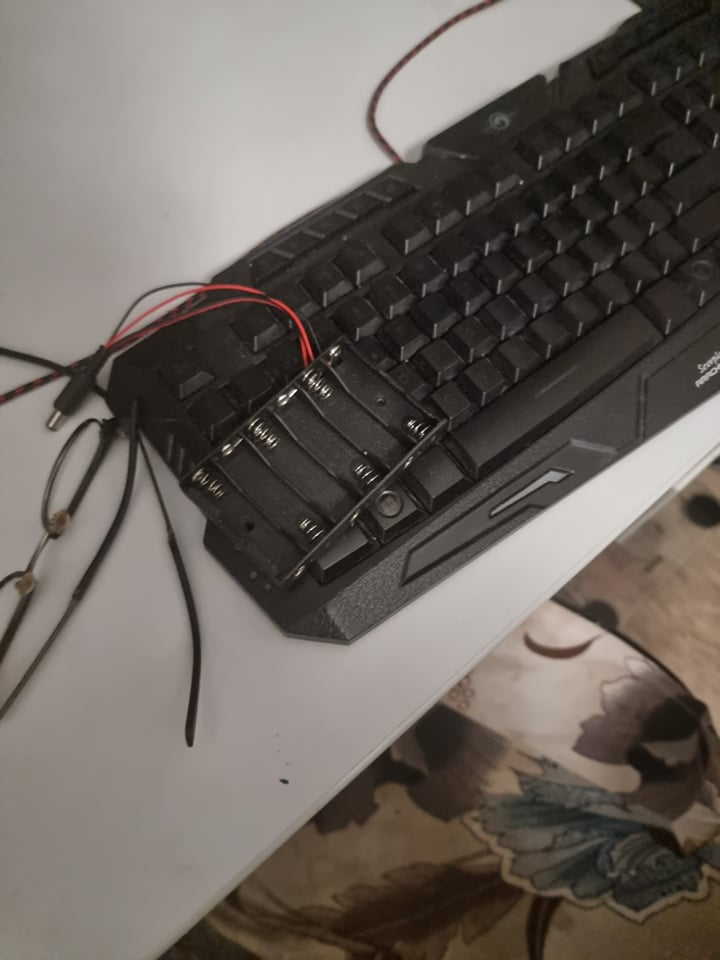BATTERY BOX: (177, 324, 449, 601)
